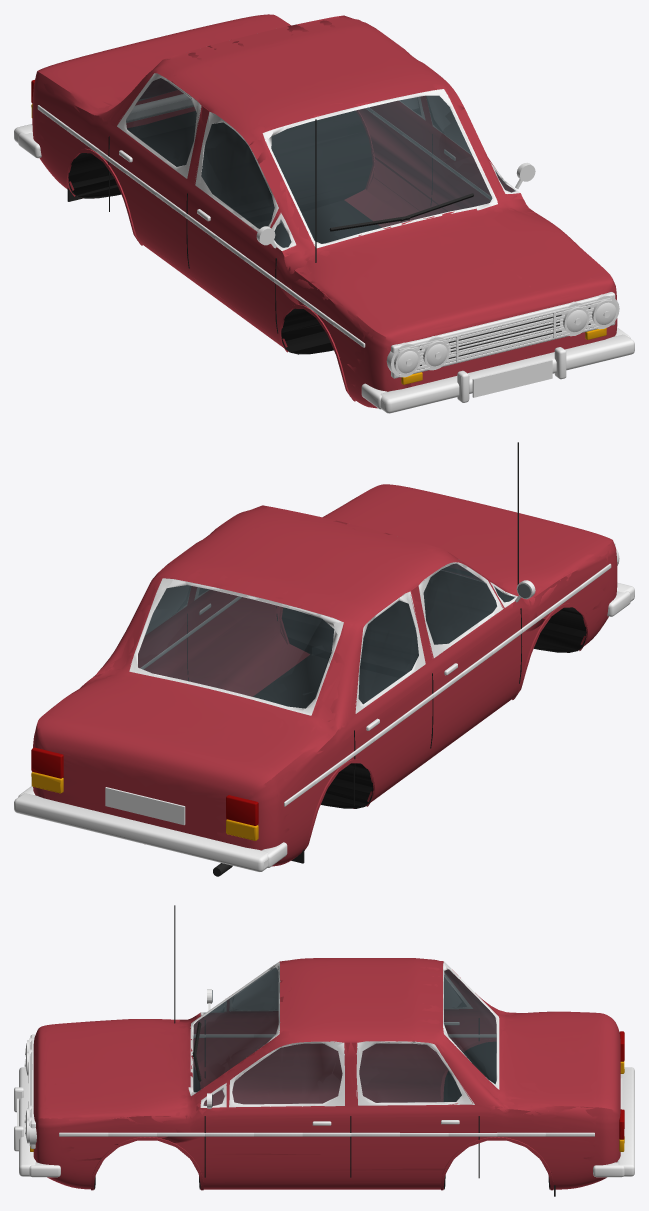
File: vaz2101.glb
3 views of the same model, one above another, from view 1: azimuth 30°, elevation 25°; view 2: azimuth 150°, elevation 25°; view 3: azimuth 270°, elevation 25° (orthographic). The views are drawn at different scales.
Visible parts, largest first — view 1: LOD_hi, LOD0; view 2: LOD_hi, LOD0; view 3: LOD_hi, LOD0.
Boxes of the visible parts, bbox=[...] form: LOD_hi: bbox=[14, 14, 634, 413]; LOD0: bbox=[14, 15, 619, 409]; LOD_hi: bbox=[14, 442, 634, 876]; LOD0: bbox=[32, 485, 634, 875]; LOD_hi: bbox=[14, 905, 634, 1196]; LOD0: bbox=[16, 906, 624, 1188].
Size of what is drawn, in the model's own units: 1.82 by 1.57 by 4.31.
